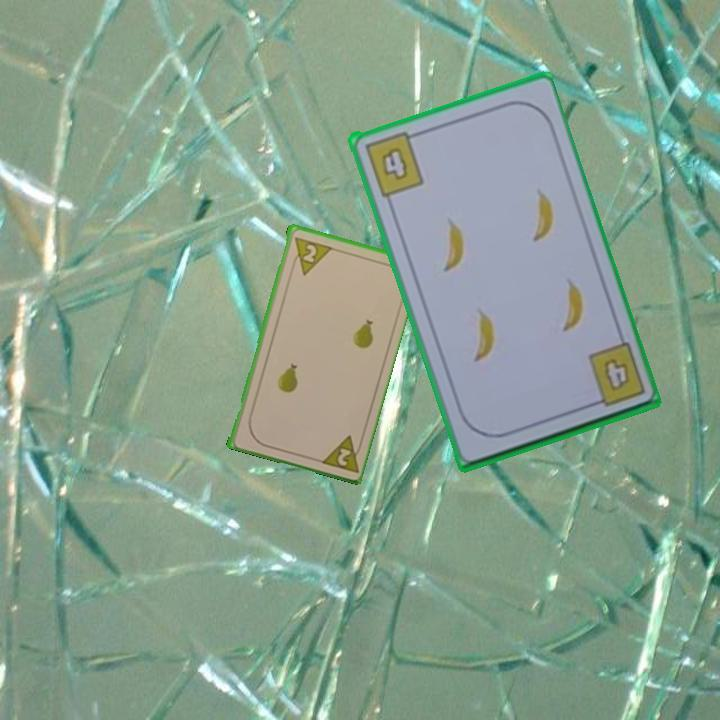2p: (315, 431, 366, 475), (288, 233, 333, 278)
4b: (360, 127, 426, 199), (599, 354, 632, 391)
